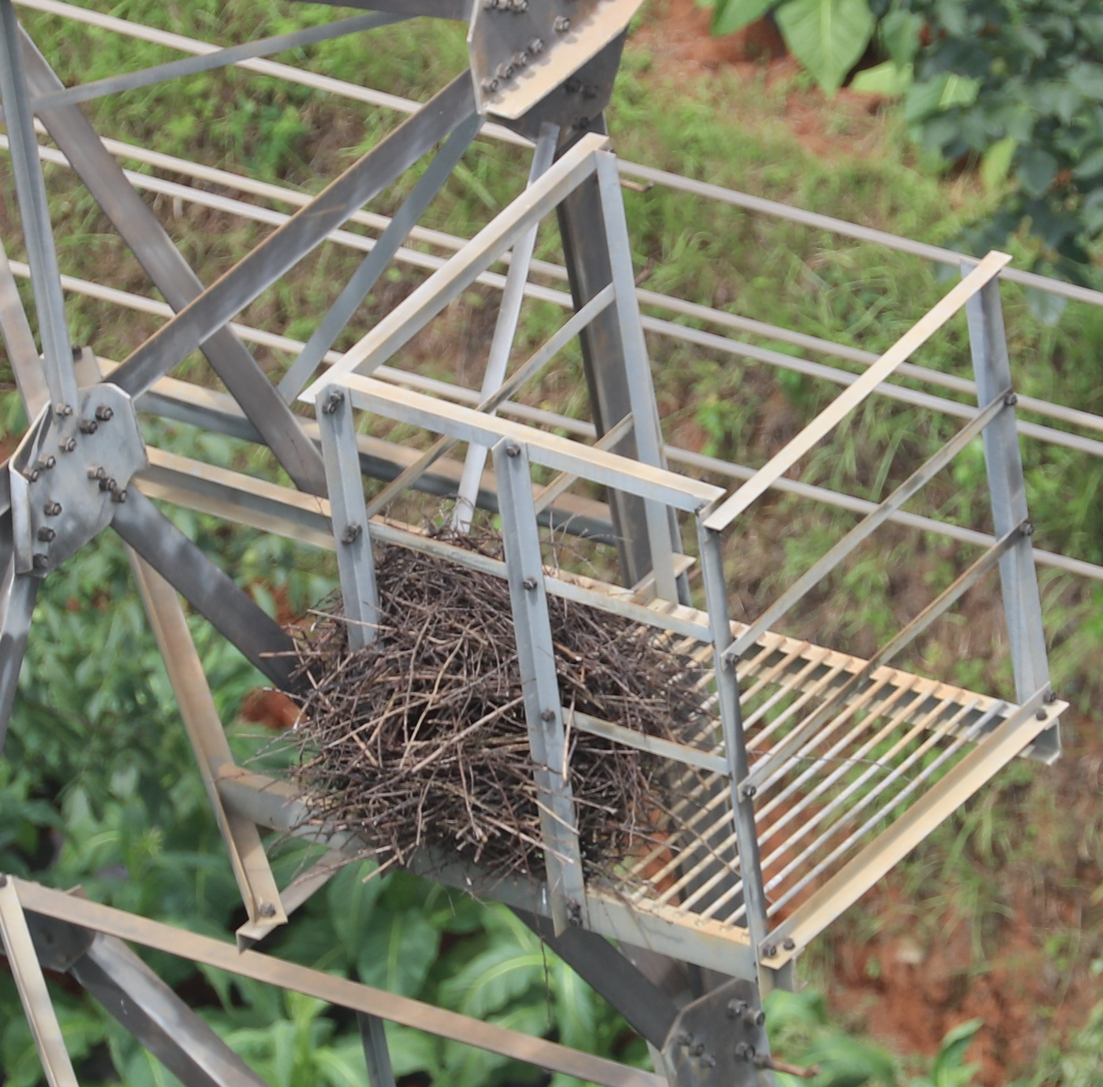nest: (293, 558, 703, 889)
